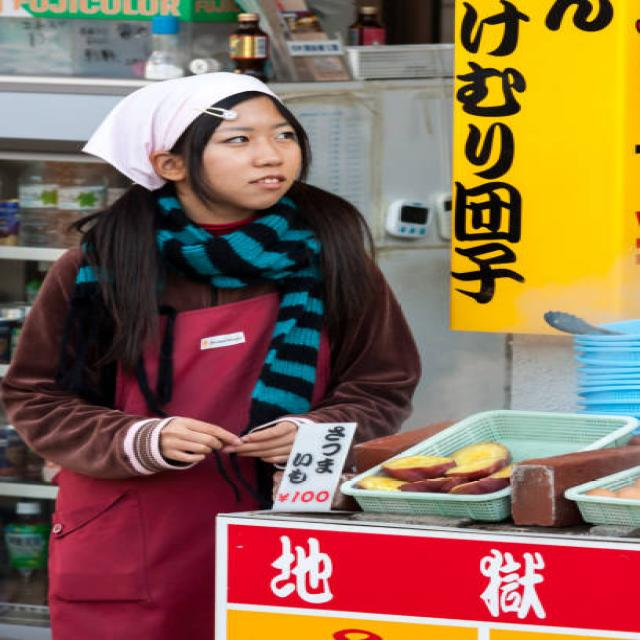Emperan: (0, 317, 640, 640)
